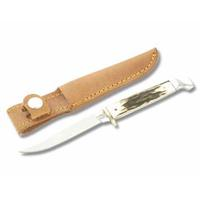knife: (14, 64, 191, 155)
